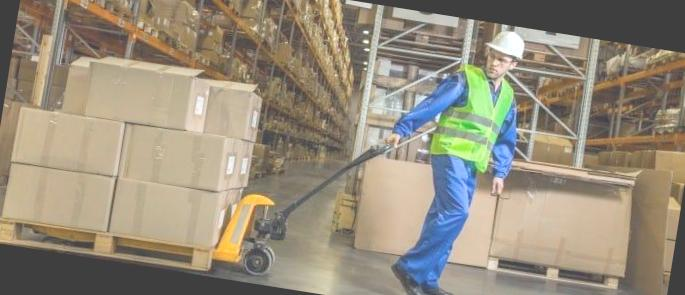helmet: (484, 26, 532, 66)
person: (365, 11, 539, 295)
